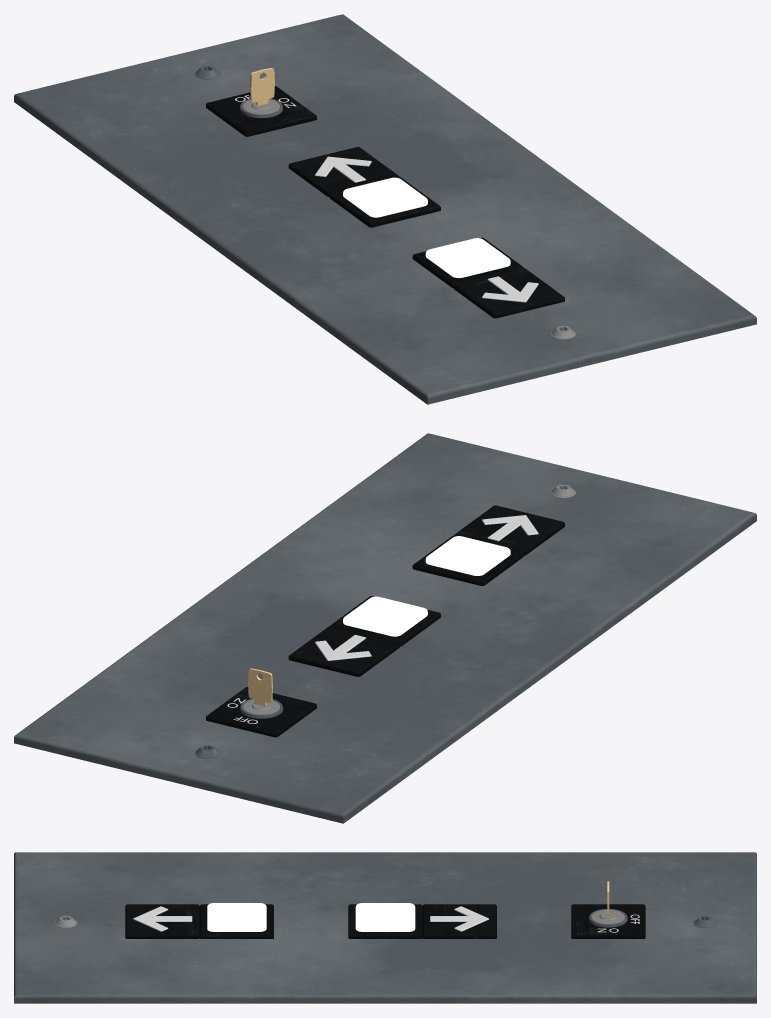
The model's file is elevator_buttons.glb.
The picture shows the model from 3 angles, top to bottom: view 1: azimuth 30°, elevation 25°; view 2: azimuth 150°, elevation 25°; view 3: azimuth 270°, elevation 25°; orthographic projection. The views are drawn at different scales.
Parts seen in each view (by area): view 1: Elevaotor Buttons; view 2: Elevaotor Buttons; view 3: Elevaotor Buttons.
Part boxes in pixels (x1=…): Elevaotor Buttons: x1=14, y1=14, x2=756, y2=404; Elevaotor Buttons: x1=14, y1=433, x2=756, y2=823; Elevaotor Buttons: x1=14, y1=852, x2=756, y2=1003.
Bounding box in the file's own units: 0.46 × 0.0696 × 1.
8 materials, 4 textured.
